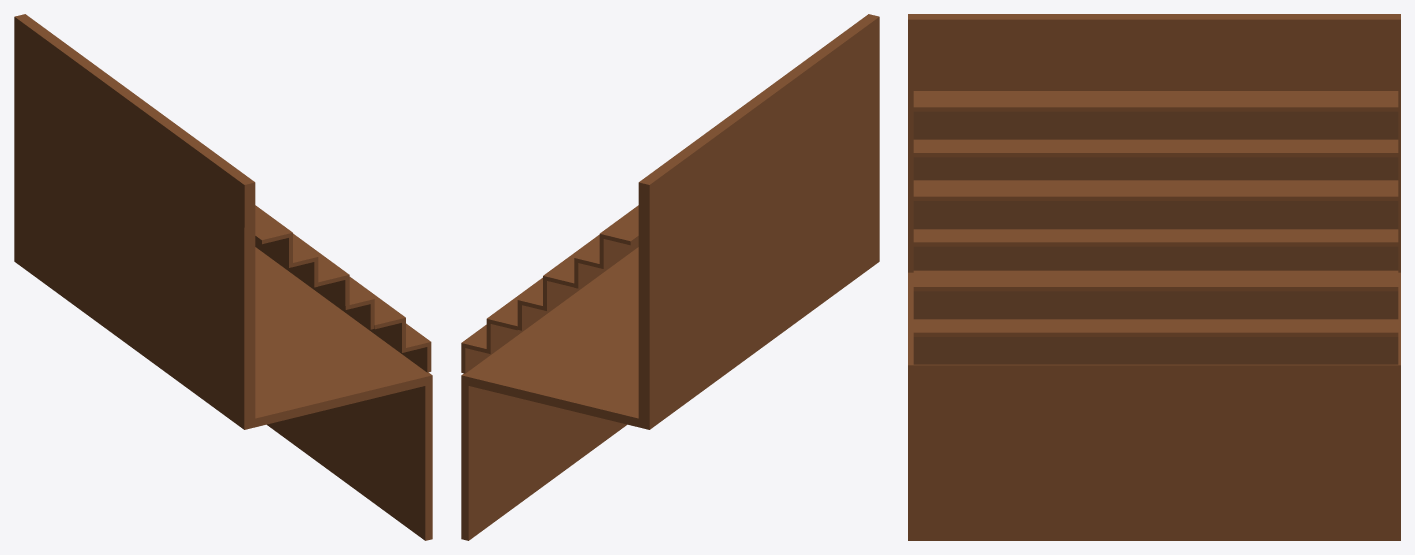
File: Bench.fbx
The picture shows the model from 3 angles, left to right: view 1: azimuth 30°, elevation 25°; view 2: azimuth 150°, elevation 25°; view 3: azimuth 270°, elevation 25°; orthographic projection. The views are drawn at different scales.
Visible parts, largest first — view 1: Benchs; view 2: Benchs; view 3: Benchs.
Part boxes in pixels (<box>): Benchs: <box>14,14,432,540</box>; Benchs: <box>461,14,879,540</box>; Benchs: <box>908,14,1400,540</box>.
Bounding box in the file's own units: 47.41 × 95.62 × 99.67.
